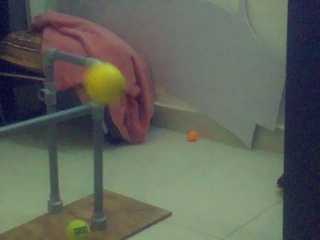ball: (84, 63, 124, 103)
